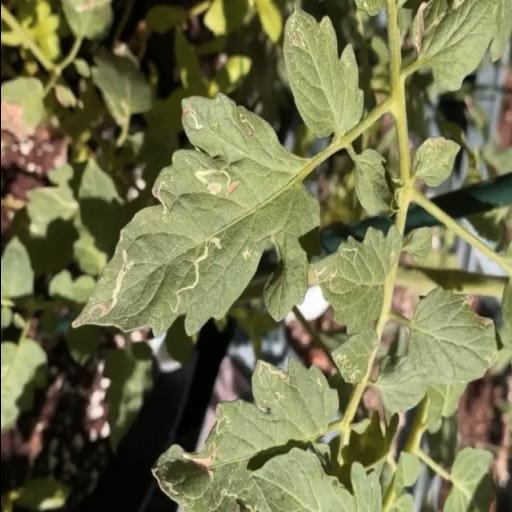disease_tomato: (68, 94, 320, 340)
